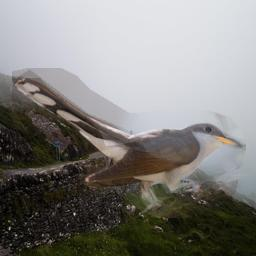Cuckoo: (12, 68, 246, 218)
